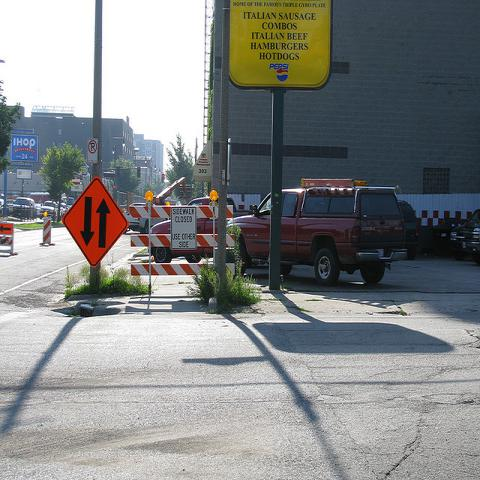bus: (29, 192, 53, 204)
car: (226, 178, 408, 286), (148, 197, 217, 264), (438, 208, 479, 264), (398, 199, 420, 260), (13, 195, 37, 209), (61, 202, 66, 217), (0, 199, 4, 216)
truck: (234, 175, 410, 285), (40, 201, 63, 221), (197, 218, 213, 235)
